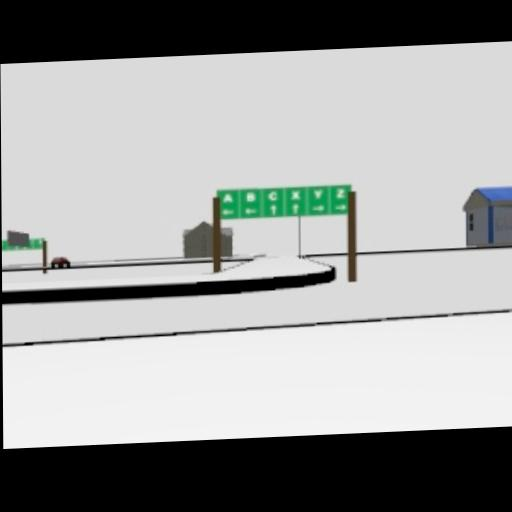A: (221, 192, 236, 204)
B: (246, 190, 257, 202)
C: (266, 189, 279, 201)
Left: (244, 206, 259, 216), (221, 206, 235, 216)
Right: (334, 202, 348, 212), (312, 204, 325, 212)
Straight: (269, 203, 278, 217), (291, 203, 300, 215)
X: (291, 188, 302, 200)
Y: (313, 187, 324, 199)
Z: (335, 187, 346, 199)
